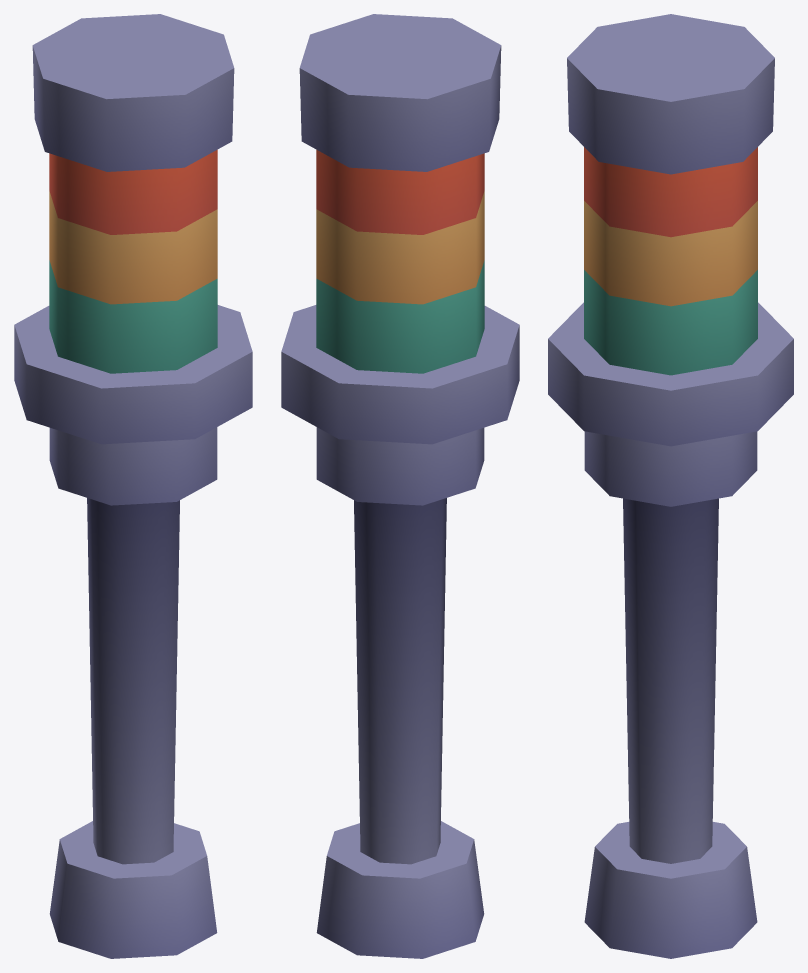
File: kenney-factory-warning-traffic.glb
The picture shows the model from 3 angles, left to right: view 1: azimuth 30°, elevation 25°; view 2: azimuth 150°, elevation 25°; view 3: azimuth 270°, elevation 25°; orthographic projection.
Parts seen in each view (by area): view 1: warning-traffic; view 2: warning-traffic; view 3: warning-traffic.
Boxes of the visible parts, <box> form: warning-traffic: <box>14,14,252,958</box>; warning-traffic: <box>281,14,519,958</box>; warning-traffic: <box>548,14,793,958</box>.
Size of the model in its own units: 0.6 by 2.33 by 0.6.
Materials: 1 (1 with a texture image).
